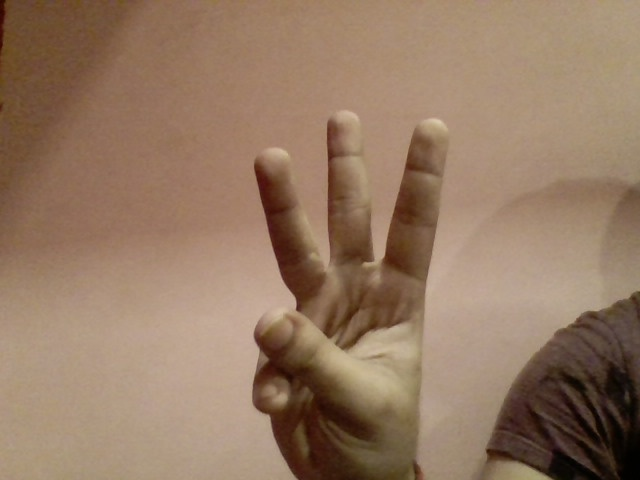w: (225, 104, 466, 472)
